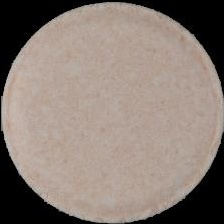0615-6566: (0, 0, 224, 224)
